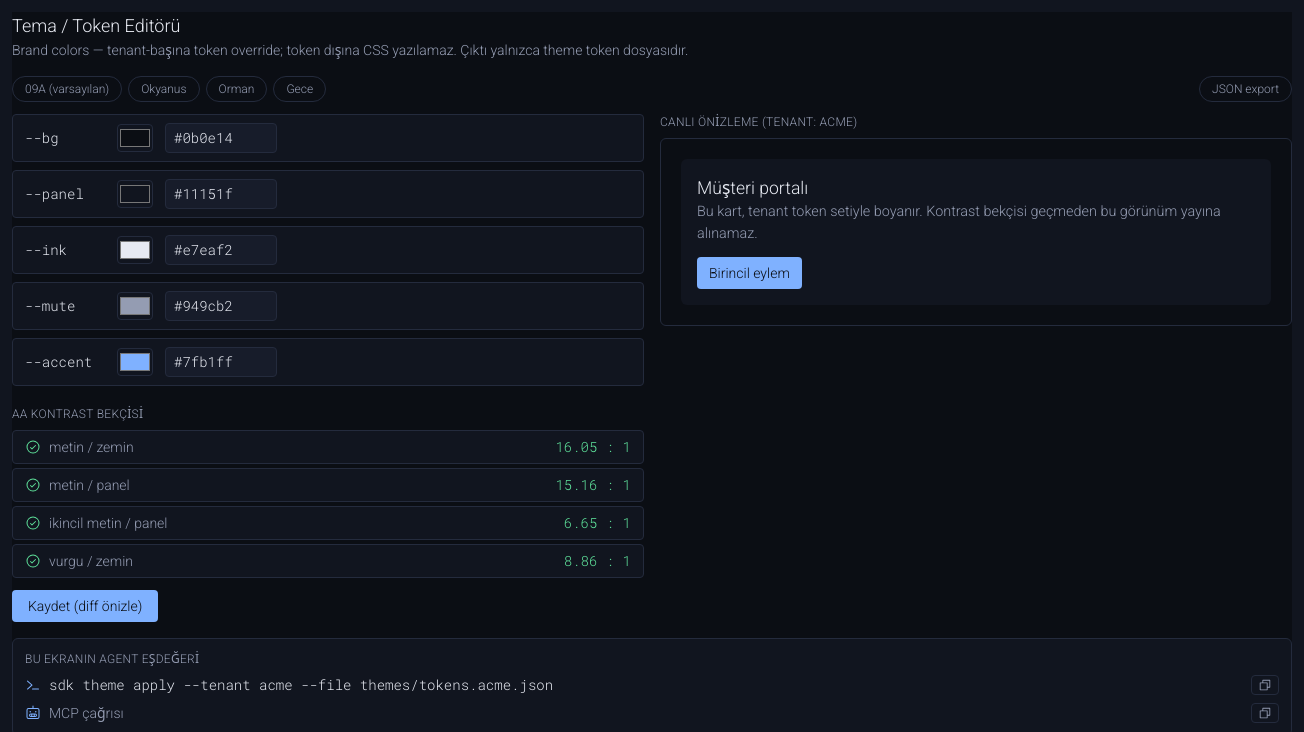
Test: Tema/Token Editörü sözleşmesi (P13) › AA altı kontrast → kaydet kilitlenir + uyarı
This screenshot has width=1304, height=732.
Replace the text in the field named "token-ink" with "#15181f" at (221, 250), box x1=165 y1=235 x2=277 y2=265
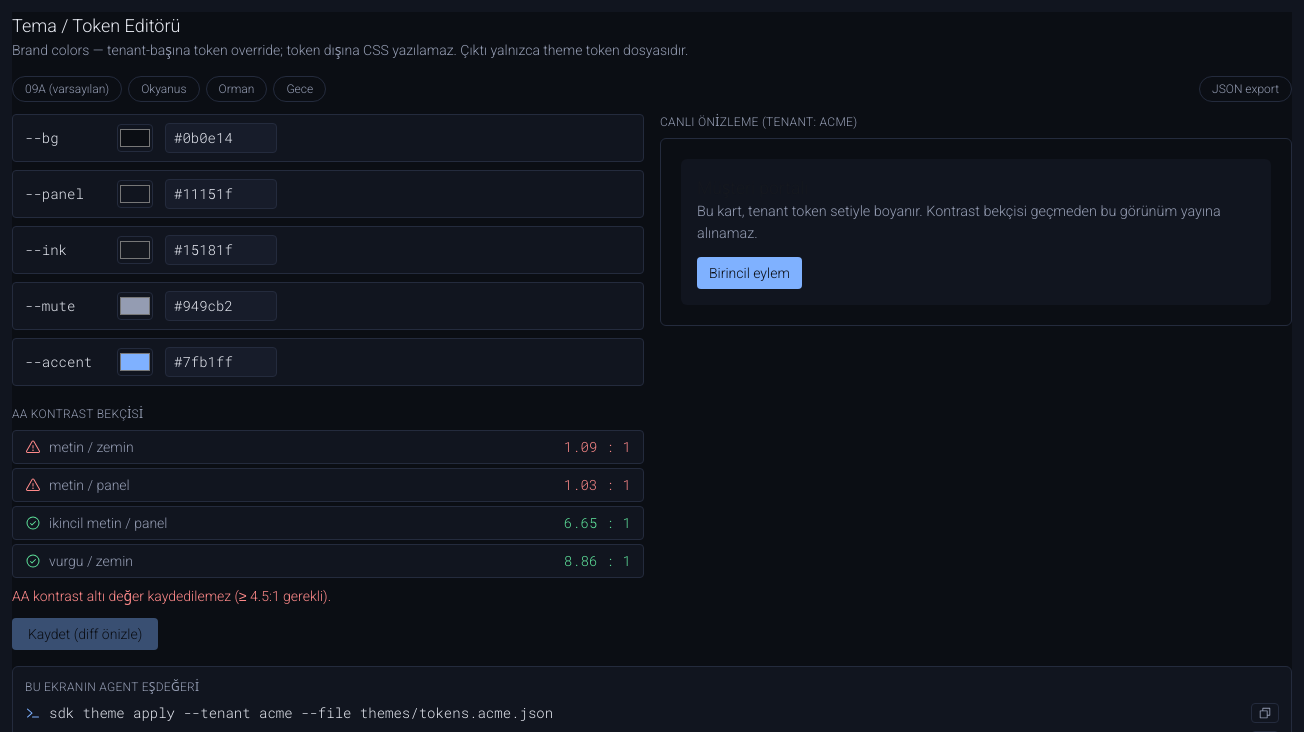
Check: the heading "AA kontrast bekçisi" is shown, box x1=12 y1=407 x2=143 y2=421
Check: the button "Kaydet (diff önizle)" is disabled, box x1=12 y1=618 x2=158 y2=650
